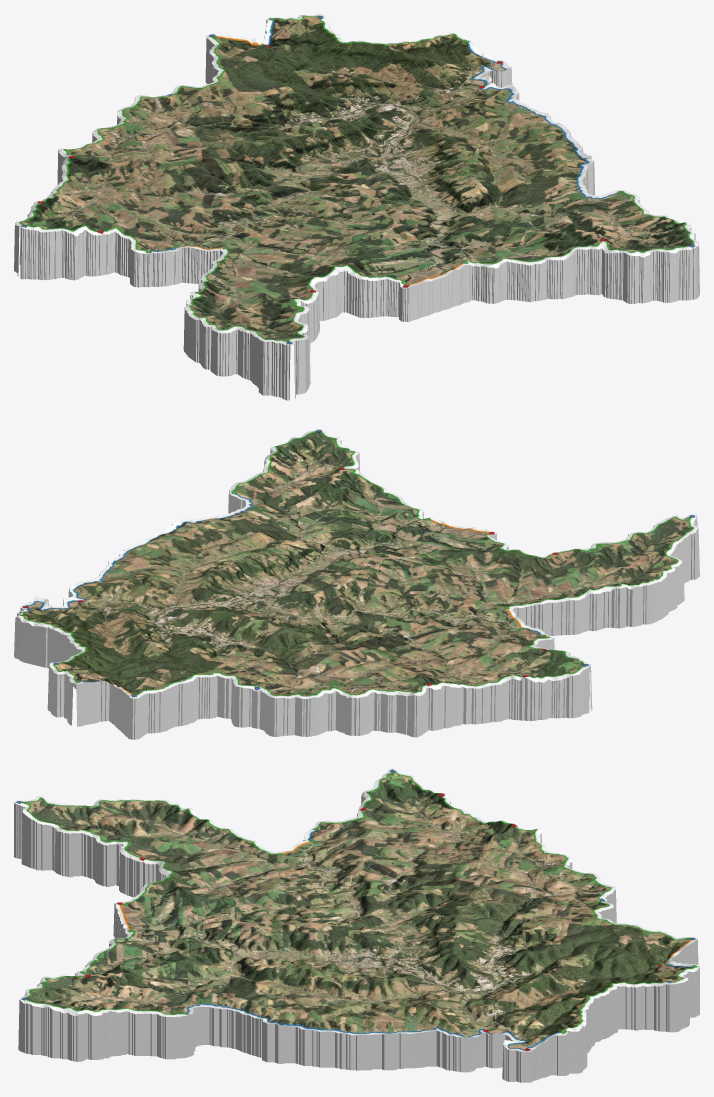
The picture shows the model from 3 angles, top to bottom: view 1: azimuth 30°, elevation 25°; view 2: azimuth 150°, elevation 25°; view 3: azimuth 270°, elevation 25°; orthographic projection. The views are drawn at different scales.
Bounding box in the file's own units: 1 × 0.0951 × 1.1.
Materials: 1 (1 with a texture image).
